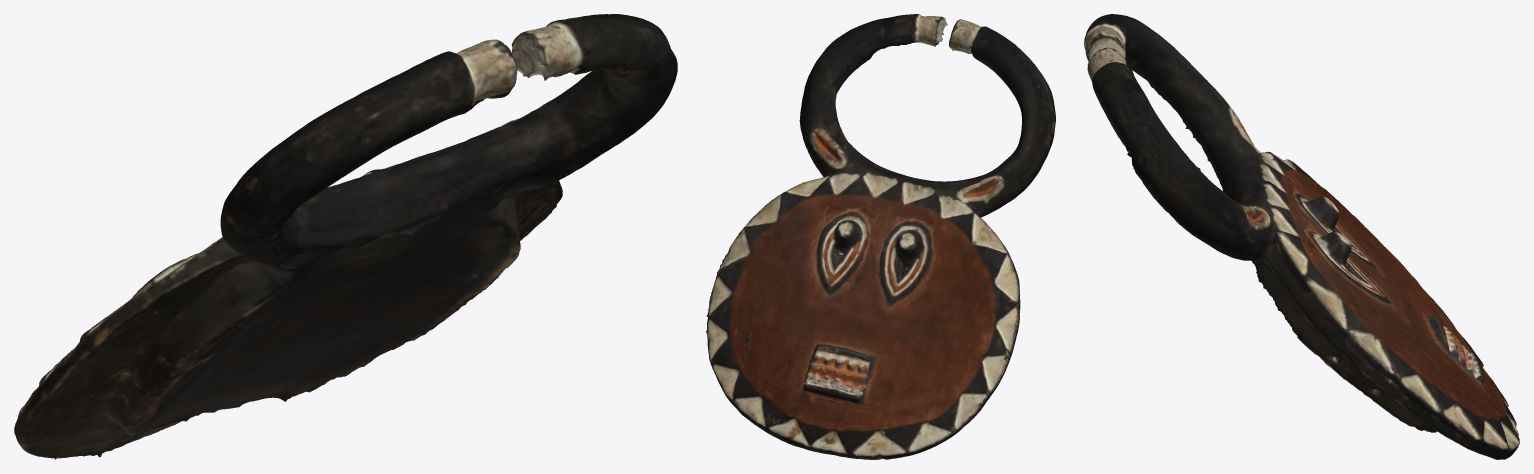
Rendered from preview.glb.
3 views of the same model, side by side, from view 1: azimuth 30°, elevation 25°; view 2: azimuth 150°, elevation 25°; view 3: azimuth 270°, elevation 25° (orthographic). The views are drawn at different scales.
Parts seen in each view (by area): view 1: Object_2; view 2: Object_2; view 3: Object_2.
Part boxes in pixels (left/top/right/bottom): Object_2: left=14, top=14, right=677, bottom=459; Object_2: left=706, top=14, right=1055, bottom=459; Object_2: left=1084, top=14, right=1519, bottom=459.
Bounding box in the file's own units: 346 × 372 × 358.
1 material, 1 textured.
